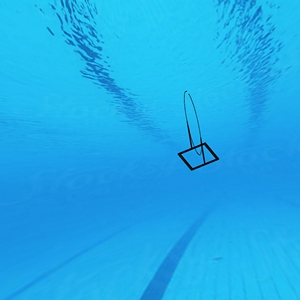circle: (169, 90, 221, 173)
